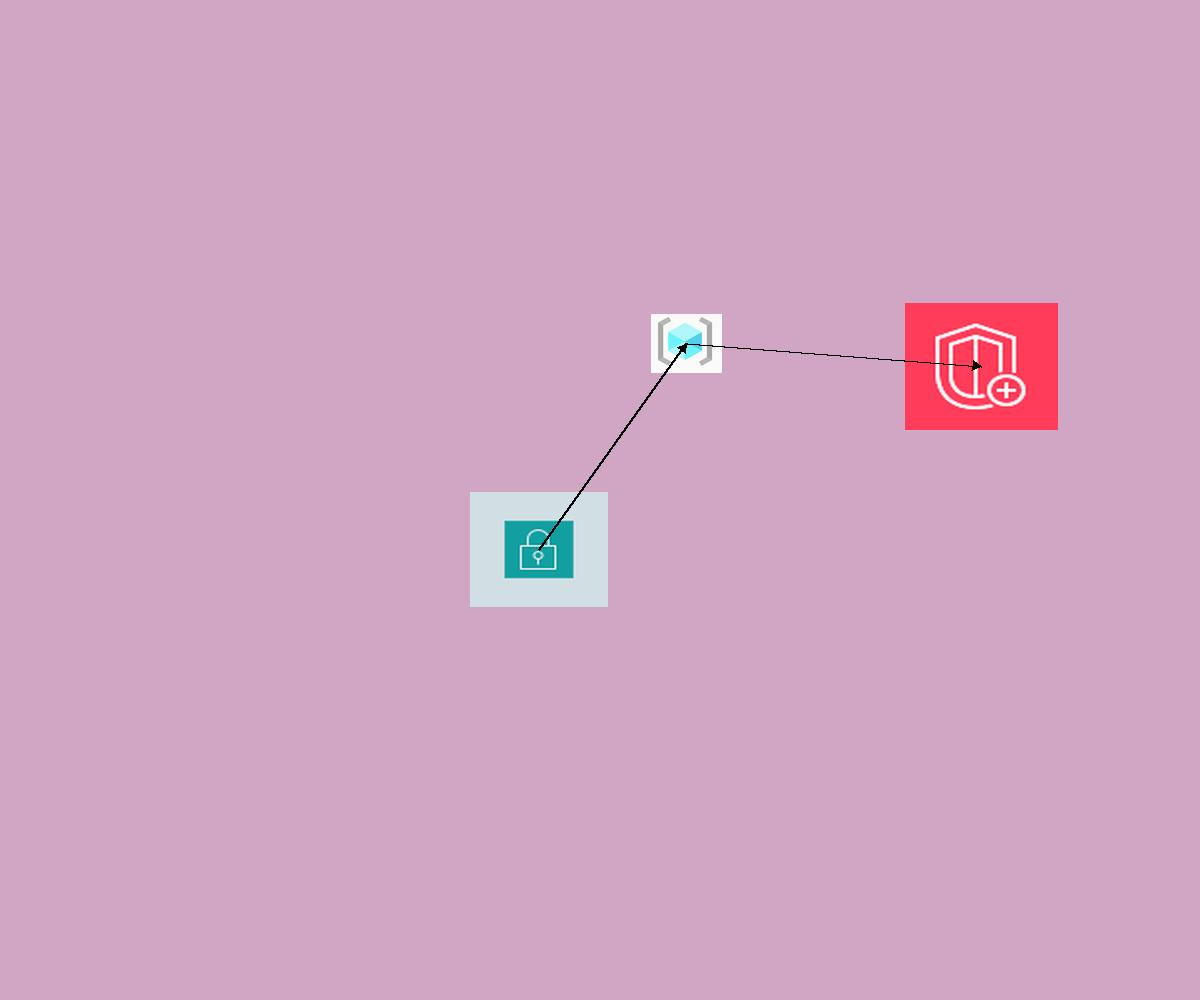AWS-Private-subnet: (470, 492, 608, 607)
AWS-Shield: (905, 303, 1058, 430)
Azure_resource_group: (651, 314, 722, 373)
